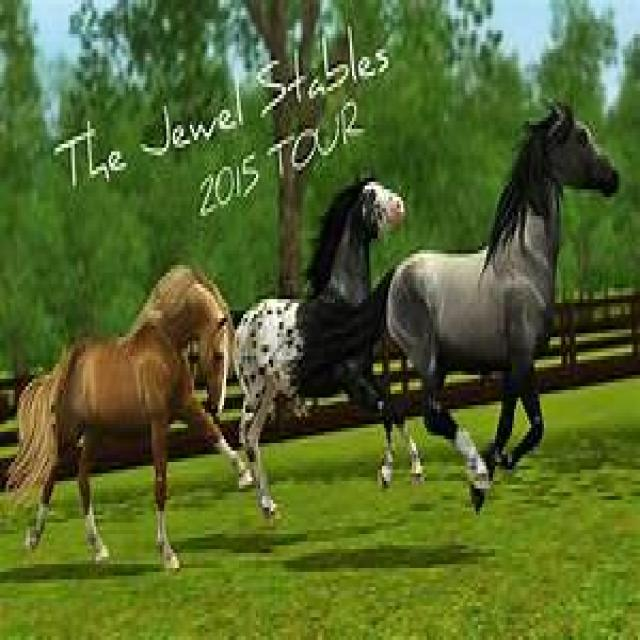horse: (384, 102, 619, 515), (6, 265, 235, 572), (239, 182, 405, 485)
